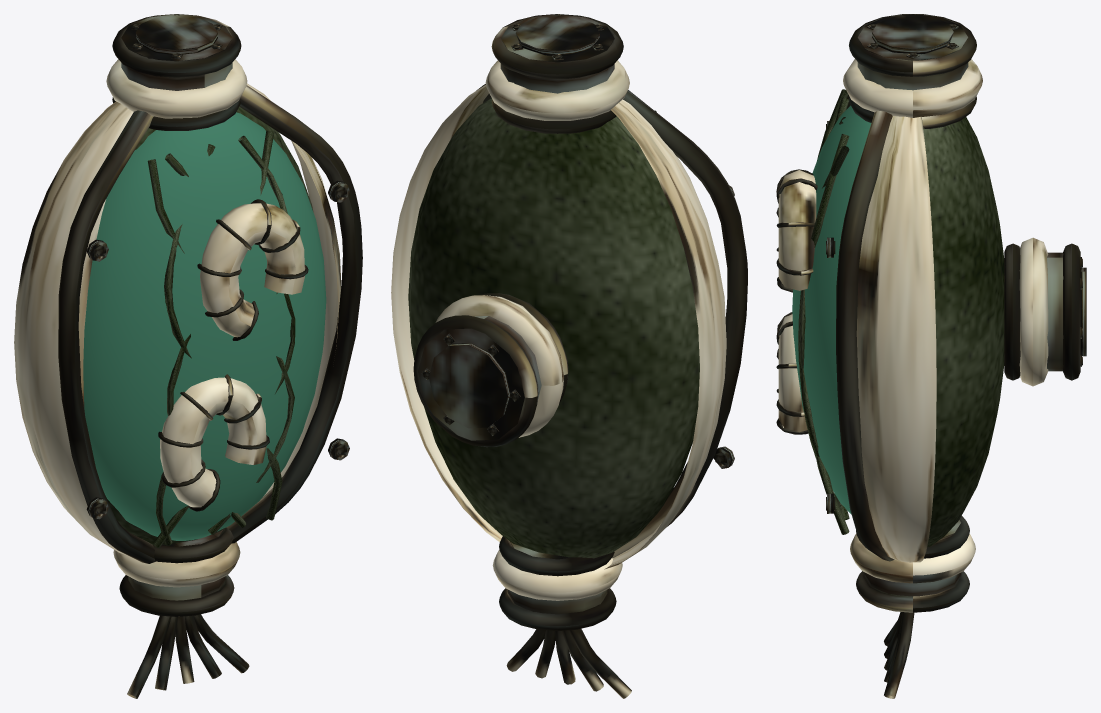
Rendered from organ-broodNode-icon-v1.glb.
3 renders of one model, left to right at view 1: azimuth 30°, elevation 25°; view 2: azimuth 150°, elevation 25°; view 3: azimuth 270°, elevation 25°, orthographic. The views are drawn at different scales.
Parts seen in each view (by area): view 1: organ-broodNode-icon-v1-glass, organ-broodNode-icon-v1-ceramic, organ-broodNode-icon-v1-brass, organ-broodNode-icon-v1-steel, organ-broodNode-icon-v1-olive; view 2: organ-broodNode-icon-v1-olive, organ-broodNode-icon-v1-ceramic, organ-broodNode-icon-v1-brass, organ-broodNode-icon-v1-steel; view 3: organ-broodNode-icon-v1-ceramic, organ-broodNode-icon-v1-olive, organ-broodNode-icon-v1-brass, organ-broodNode-icon-v1-glass, organ-broodNode-icon-v1-steel.
Boxes of the visible parts, x1=… form: organ-broodNode-icon-v1-glass: x1=83, y1=112, x2=326, y2=540; organ-broodNode-icon-v1-ceramic: x1=14, y1=59, x2=341, y2=587; organ-broodNode-icon-v1-brass: x1=58, y1=14, x2=362, y2=698; organ-broodNode-icon-v1-steel: x1=86, y1=14, x2=349, y2=600; organ-broodNode-icon-v1-olive: x1=105, y1=106, x2=313, y2=548; organ-broodNode-icon-v1-olive: x1=408, y1=98, x2=699, y2=558; organ-broodNode-icon-v1-ceramic: x1=391, y1=60, x2=726, y2=600; organ-broodNode-icon-v1-brass: x1=413, y1=14, x2=747, y2=698; organ-broodNode-icon-v1-steel: x1=418, y1=14, x2=734, y2=614; organ-broodNode-icon-v1-ceramic: x1=778, y1=59, x2=1048, y2=583; organ-broodNode-icon-v1-olive: x1=798, y1=89, x2=1004, y2=546; organ-broodNode-icon-v1-brass: x1=776, y1=14, x2=1082, y2=698; organ-broodNode-icon-v1-glass: x1=792, y1=105, x2=871, y2=514; organ-broodNode-icon-v1-steel: x1=827, y1=14, x2=1086, y2=596.
Bounding box in the file's own units: 0.5988 × 1.2 × 0.527.
3 materials, 2 textured.
